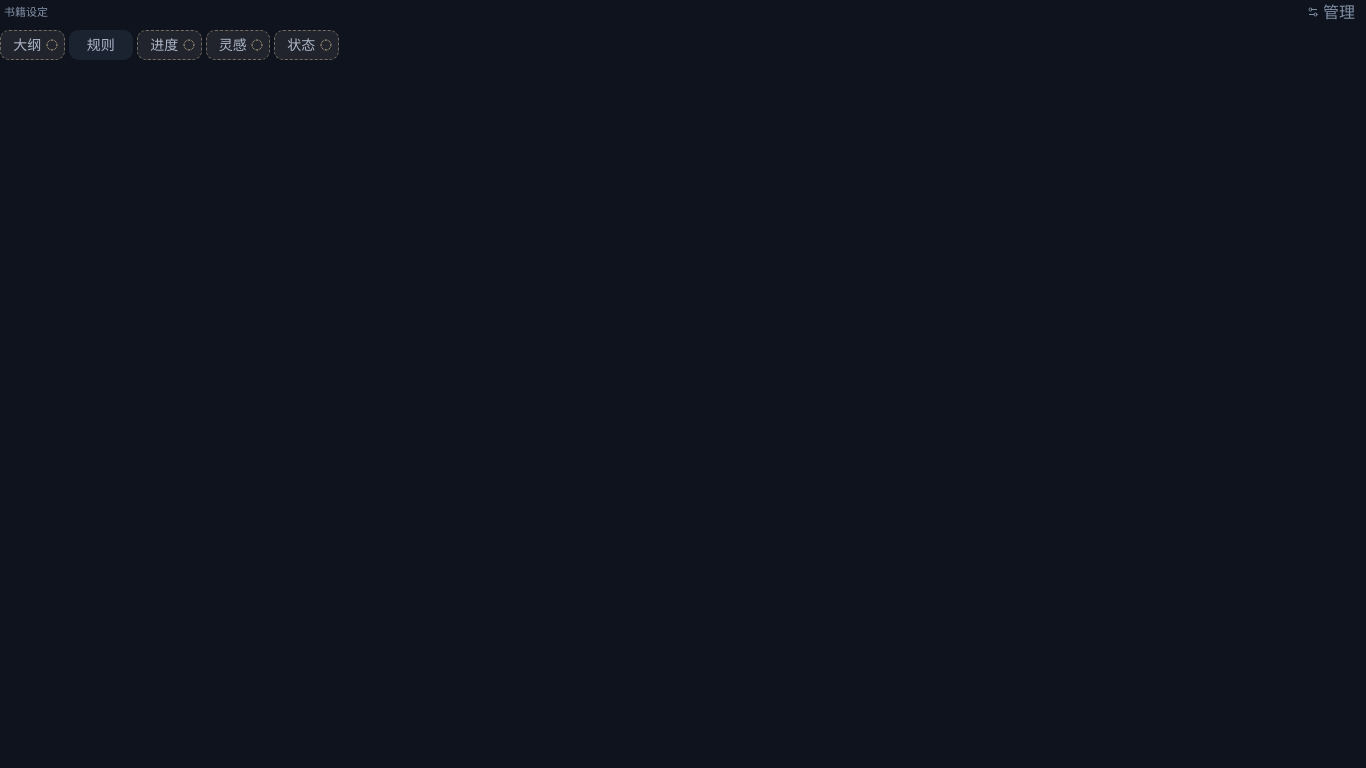
Scenario: BookSettingsShortcuts › 在管理列表中以虚线与状态图标区分尚未创建的文件
Click the button "管理" at x=1331, y=12, box x1=1300 y1=0 x2=1362 y2=24
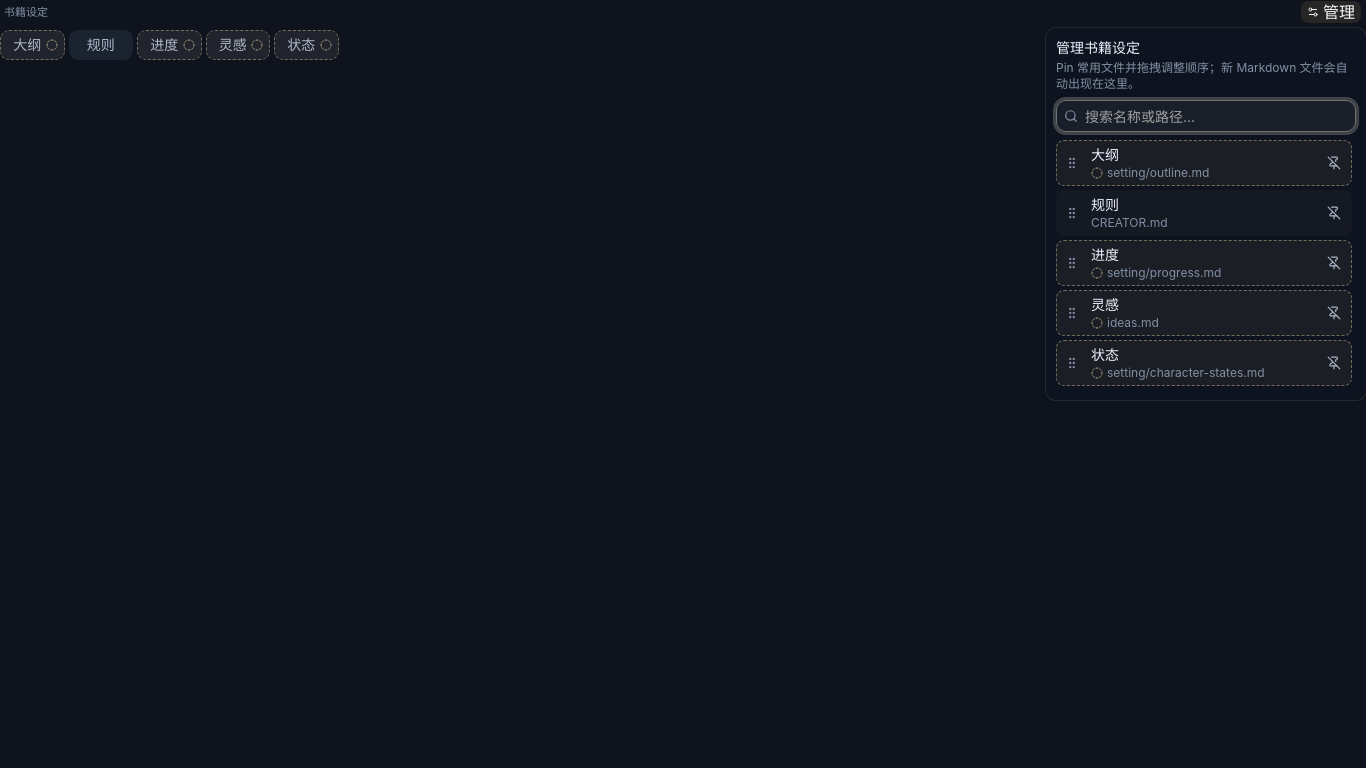
Check: the 5th icon with class "lucide-circle-dashed" is shown, box x1=1091 y1=167 x2=1103 y2=179
